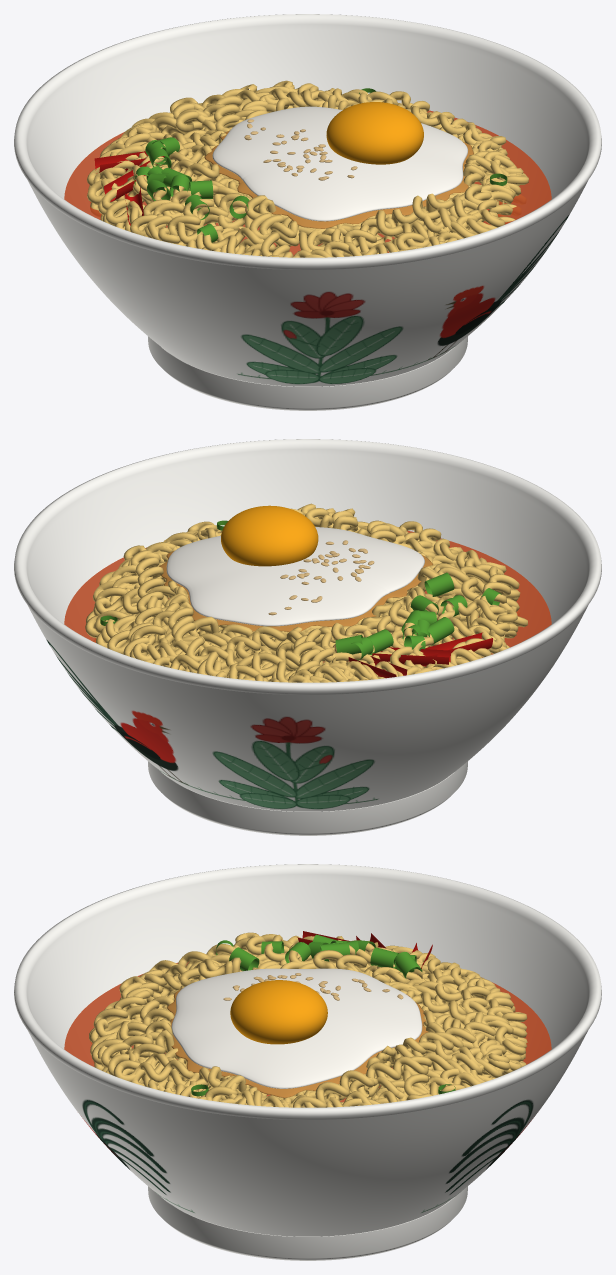
The model's file is indomie-rebus-telor.glb.
3 renders of one model, top to bottom at view 1: azimuth 30°, elevation 25°; view 2: azimuth 150°, elevation 25°; view 3: azimuth 270°, elevation 25°, orthographic.
Visible parts, largest first — view 1: dinding_dalam, dinding_luar, mie, putih_telur, kaki_mangkok, kuning_telur, kuah, daun_bawang, pinggiran_garing, cabai_merah, wijen; view 2: dinding_dalam, dinding_luar, mie, putih_telur, kaki_mangkok, kuning_telur, daun_bawang, kuah, cabai_merah, pinggiran_garing, wijen; view 3: dinding_dalam, dinding_luar, mie, putih_telur, kaki_mangkok, kuning_telur, kuah, daun_bawang, pinggiran_garing, wijen.
Part boxes in pixels (<box>): dinding_dalam: <box>14,14,601,269</box>; dinding_luar: <box>28,181,587,386</box>; mie: <box>87,80,528,257</box>; putih_telur: <box>212,106,468,221</box>; kaki_mangkok: <box>148,336,467,410</box>; kuning_telur: <box>326,102,423,164</box>; kuah: <box>64,110,551,256</box>; daun_bawang: <box>134,88,507,242</box>; pinggiran_garing: <box>204,130,473,228</box>; cabai_merah: <box>94,151,164,225</box>; wijen: <box>244,119,357,180</box>; dinding_dalam: <box>14,439,601,694</box>; dinding_luar: <box>28,606,587,811</box>; mie: <box>85,503,527,682</box>; putih_telur: <box>166,527,424,626</box>; kaki_mangkok: <box>148,761,467,835</box>; kuning_telur: <box>221,505,318,566</box>; daun_bawang: <box>100,520,501,660</box>; kuah: <box>64,530,551,662</box>; cabai_merah: <box>347,632,492,678</box>; pinggiran_garing: <box>159,551,432,632</box>; wijen: <box>268,540,374,615</box>; dinding_dalam: <box>14,864,601,1119</box>; dinding_luar: <box>28,1031,587,1236</box>; mie: <box>89,932,527,1107</box>; putih_telur: <box>171,968,422,1088</box>; kaki_mangkok: <box>148,1186,467,1260</box>; kuning_telur: <box>230,980,327,1044</box>; kuah: <box>64,961,551,1102</box>; daun_bawang: <box>191,934,455,1096</box>; pinggiran_garing: <box>162,988,428,1098</box>; wijen: <box>223,973,403,1000</box>.
Bounding box in the file's own units: 0.1832 × 0.0803 × 0.1832.
Materials: 10 (1 with a texture image).
